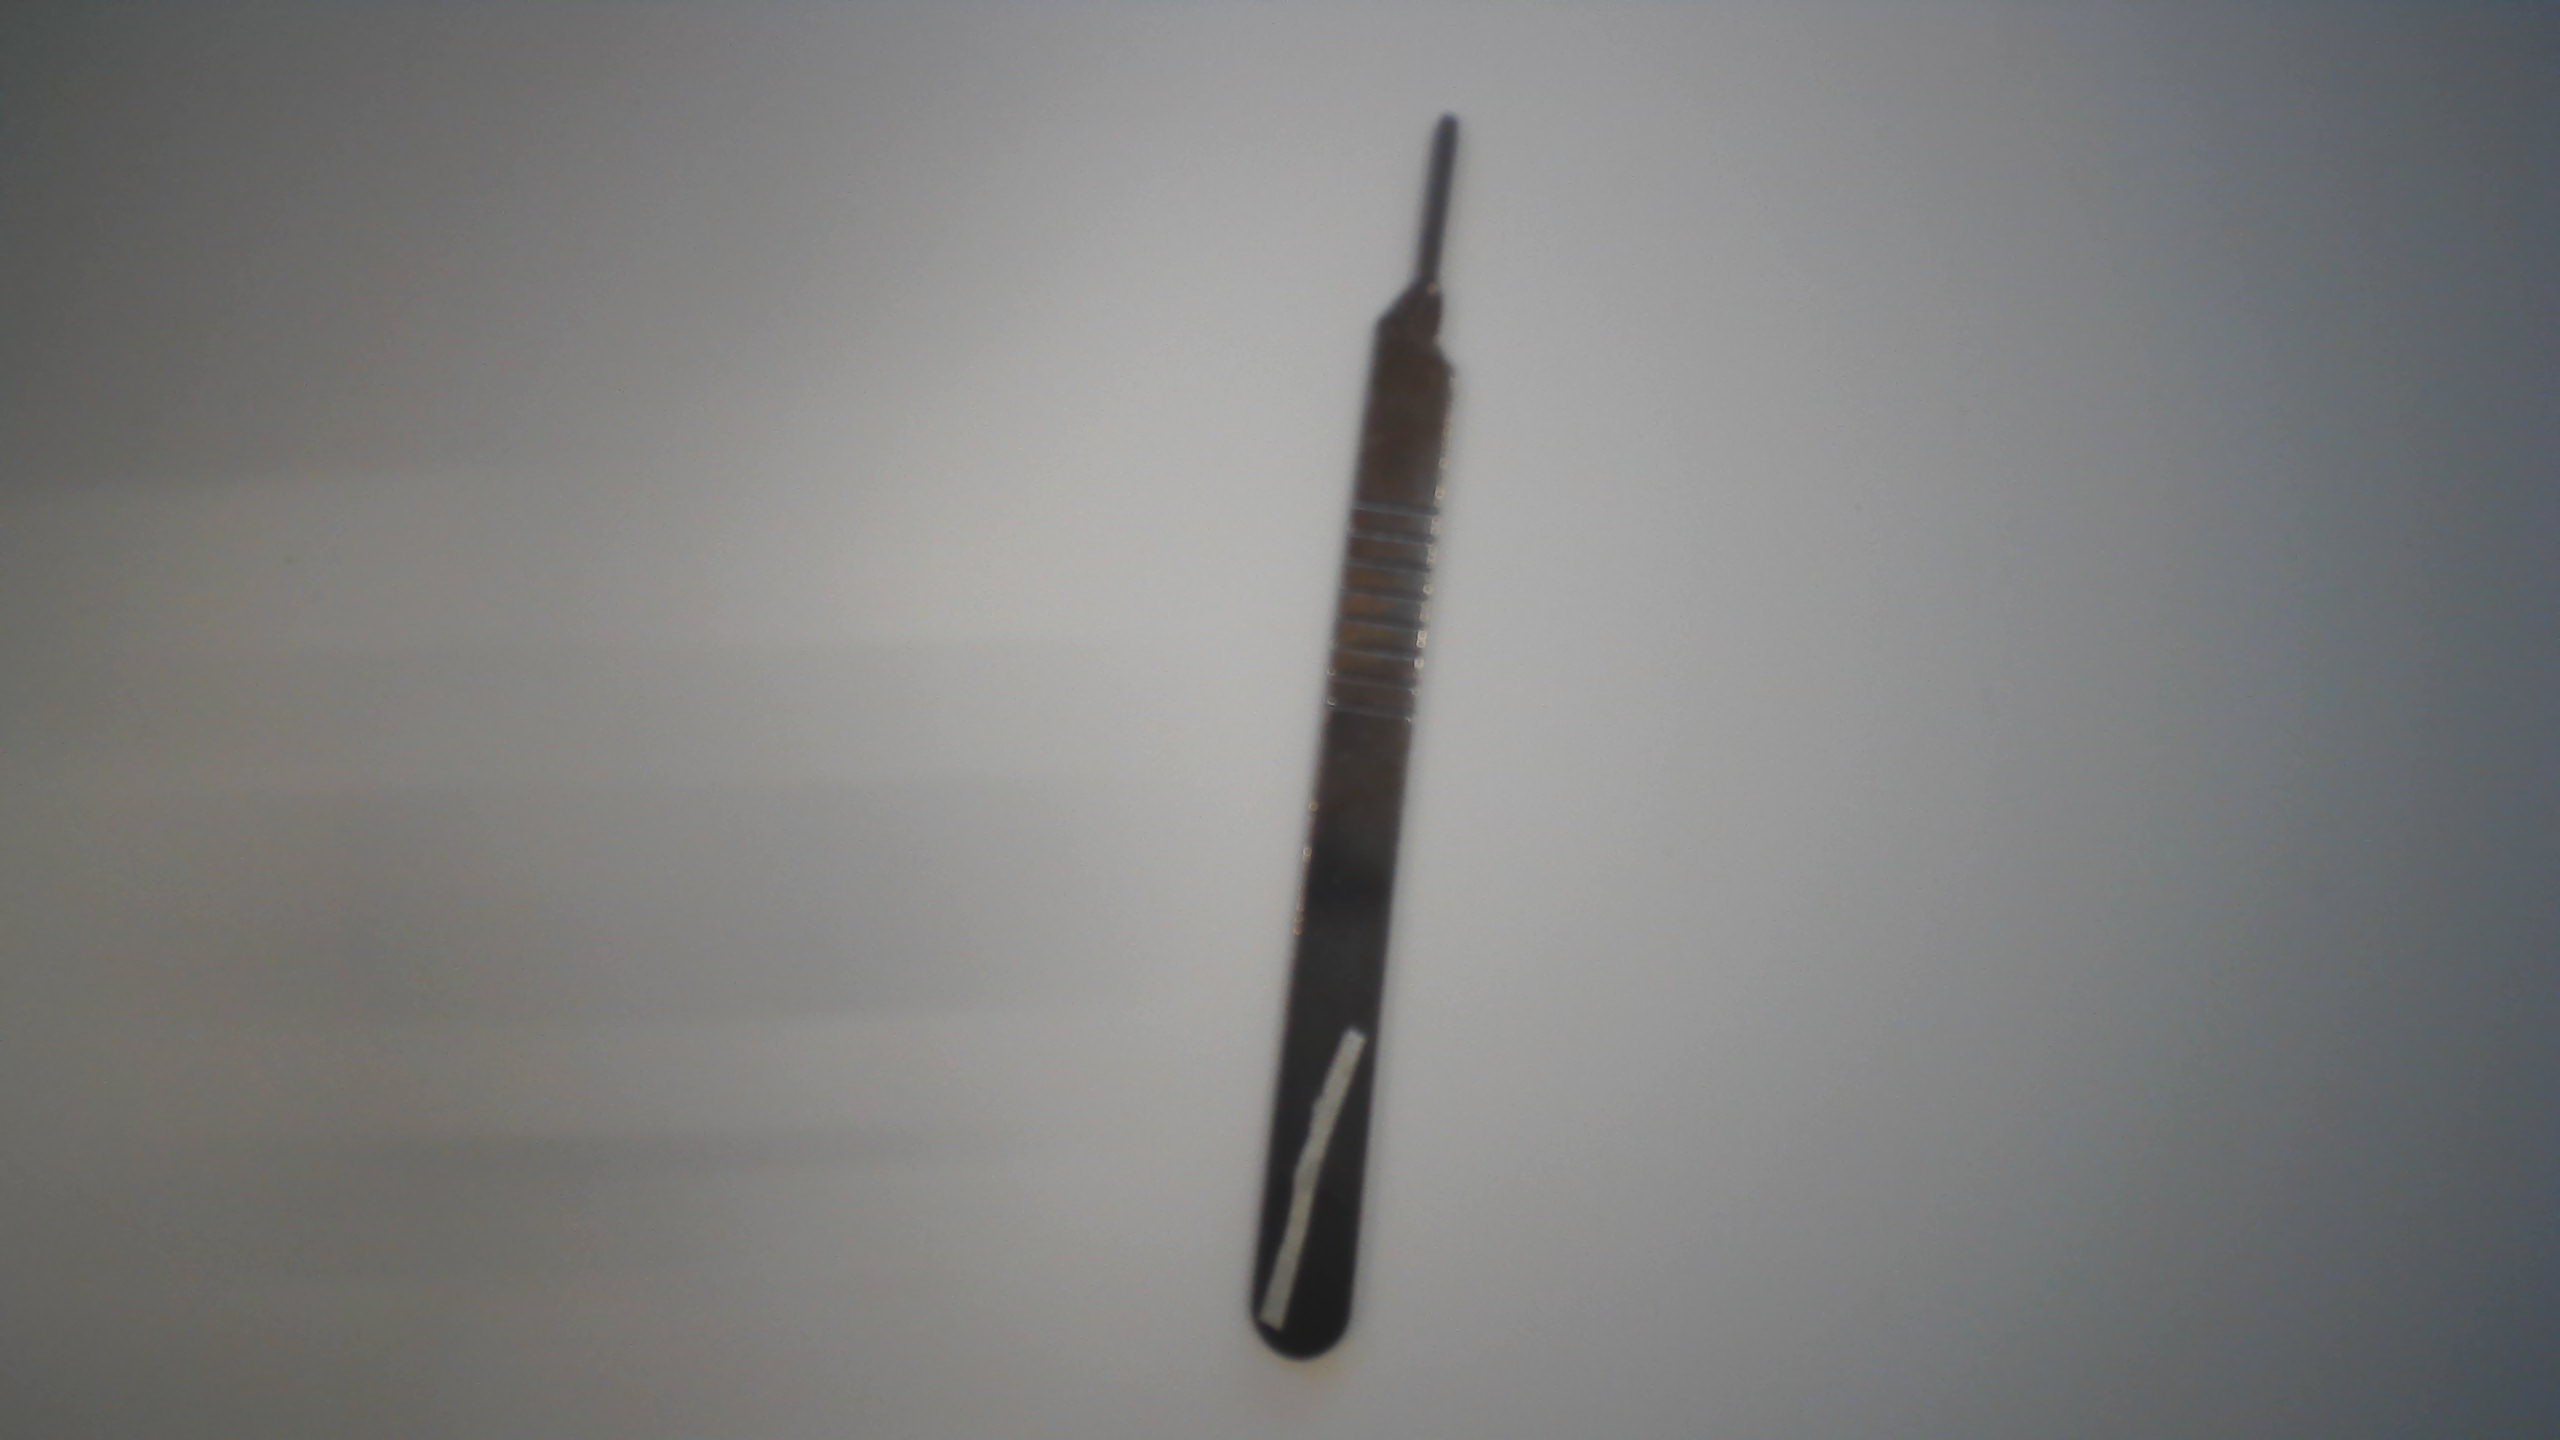Scratches: (1252, 1011, 1380, 1338)
